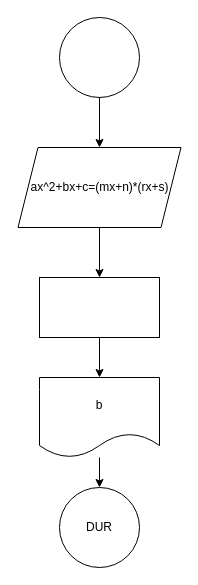
Image size: 198x585. Some labels were removed from this diagram. The shapes that lost their labels are listed below. From the top down, each one's box as (x1, y1, x2, y2) in pixels, then its label:
(58, 16, 140, 98): BAŞLA
(38, 276, 160, 338): 2x^2+bx-21=(mx+n)*(rx+s)
